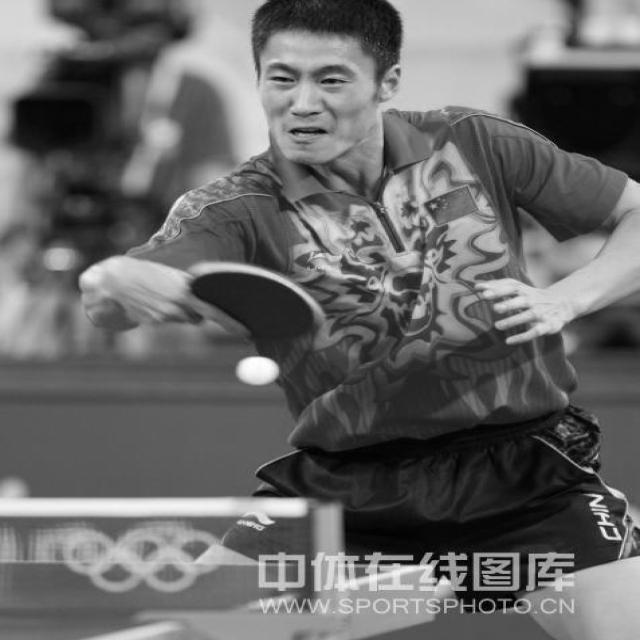ping-pong-ball: (236, 354, 281, 386)
